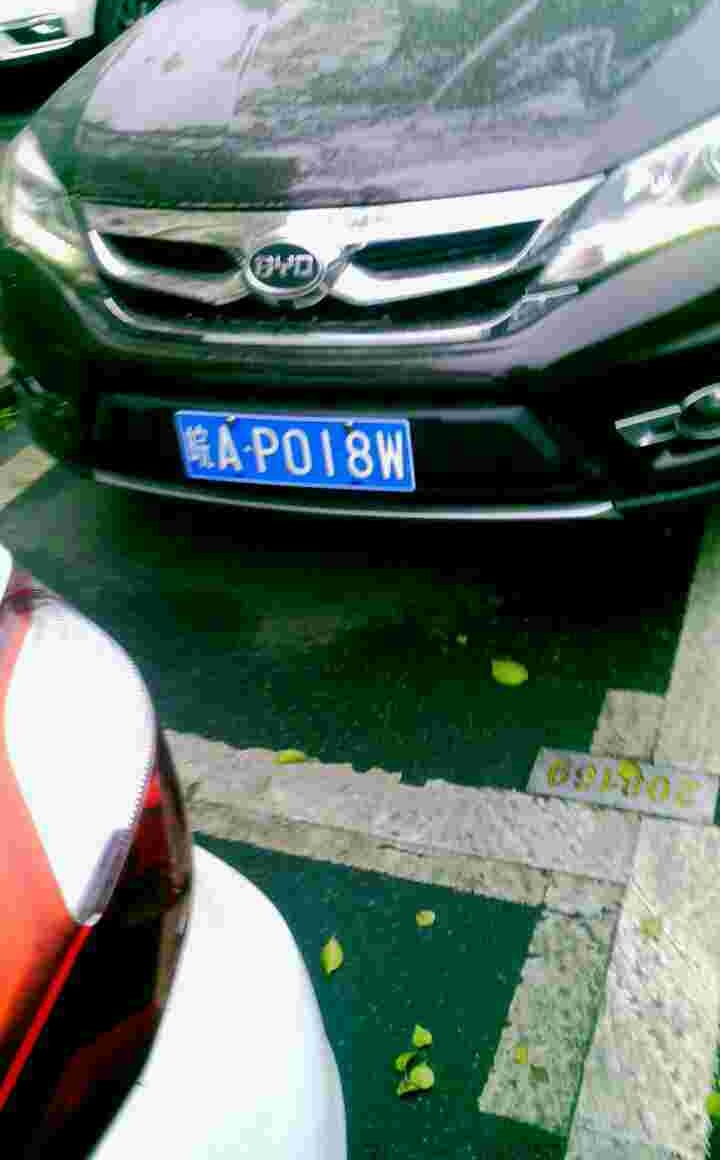plate: (173, 408, 420, 495)
